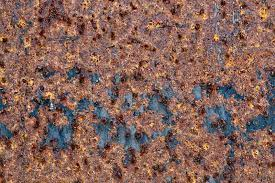rust: (1, 2, 273, 181)
